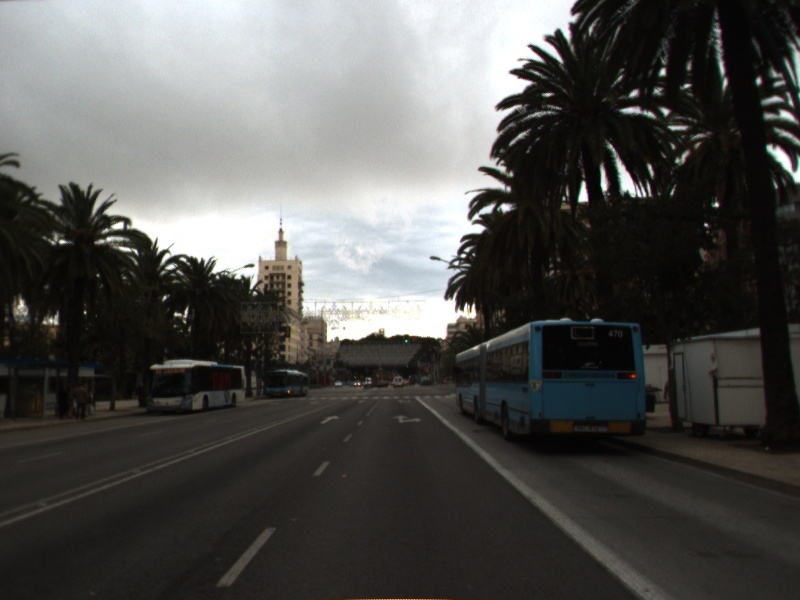STRAIGHT: (318, 414, 340, 425)
STRAIGHT_RIGHT: (390, 413, 423, 425)
